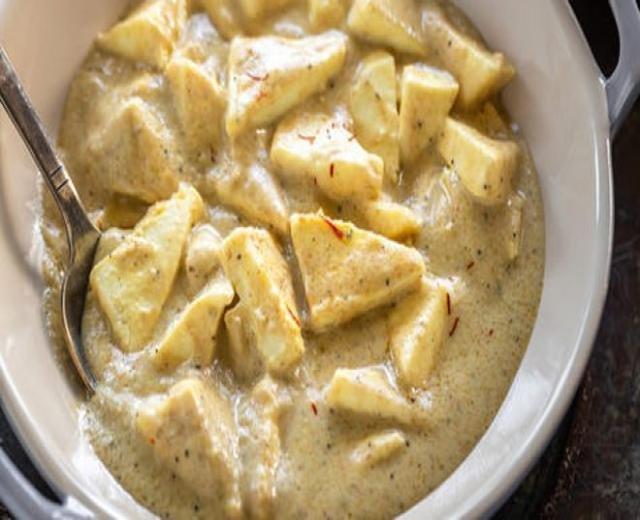kadai paneer: (0, 1, 619, 513), (0, 18, 216, 401), (352, 46, 516, 203), (176, 41, 300, 234), (2, 26, 93, 236), (0, 362, 106, 518), (227, 30, 349, 138), (78, 91, 182, 205), (272, 108, 389, 206), (563, 0, 640, 142), (419, 7, 518, 109), (0, 113, 49, 287), (164, 53, 231, 156), (62, 234, 104, 393), (95, 0, 184, 67), (347, 0, 431, 55), (194, 0, 306, 39)
